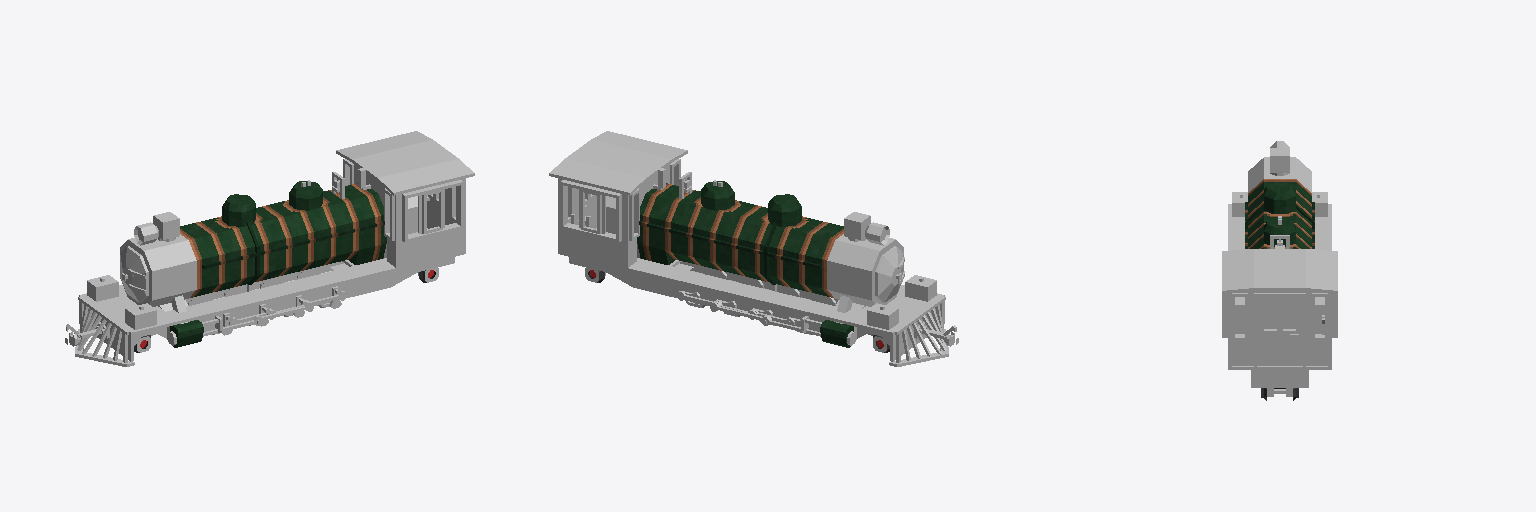
3 views of the same model, side by side, from view 1: azimuth 30°, elevation 25°; view 2: azimuth 150°, elevation 25°; view 3: azimuth 270°, elevation 25° (orthographic).
Visible parts, largest first — view 1: FRAME.boiler, FRAME.cab, FRAME, COUPLER_ENGAGED_FRONT_1_TOGGLE_LABEL_Uncouple, FRAME.pipes, STEAM_CHEST, FRAME.toolbox, FRAME.toolbox.001; view 2: FRAME.boiler, FRAME.cab, FRAME, COUPLER_ENGAGED_FRONT_1_TOGGLE_LABEL_Uncouple, FRAME.pipes, STEAM_CHEST, FRAME.toolbox.001, FRAME.toolbox; view 3: FRAME.cab, FRAME.boiler, FRAME, DOOR_2_CONNECTING.
Part boxes in pixels (x1,y1,x2,y2): FRAME.boiler: (120, 181, 417, 306); FRAME.cab: (336, 131, 474, 267); FRAME: (79, 228, 465, 361); COUPLER_ENGAGED_FRONT_1_TOGGLE_LABEL_Uncouple: (65, 296, 134, 366); FRAME.pipes: (171, 184, 384, 323); STEAM_CHEST: (158, 300, 218, 347); FRAME.toolbox: (87, 275, 118, 301); FRAME.toolbox.001: (125, 303, 156, 329); FRAME.boiler: (606, 181, 903, 306); FRAME.cab: (549, 131, 687, 267); FRAME: (558, 228, 944, 361); COUPLER_ENGAGED_FRONT_1_TOGGLE_LABEL_Uncouple: (889, 296, 958, 366); FRAME.pipes: (639, 184, 852, 323); STEAM_CHEST: (805, 300, 865, 347); FRAME.toolbox.001: (905, 275, 936, 301); FRAME.toolbox: (867, 303, 898, 329); FRAME.cab: (1222, 249, 1337, 366); FRAME.boiler: (1248, 154, 1311, 328); FRAME: (1228, 204, 1331, 387); DOOR_2_CONNECTING: (1257, 297, 1302, 365).
Size of the model in its own units: 8.5 by 2.66 by 2.25.
Materials: 7 (2 with a texture image).